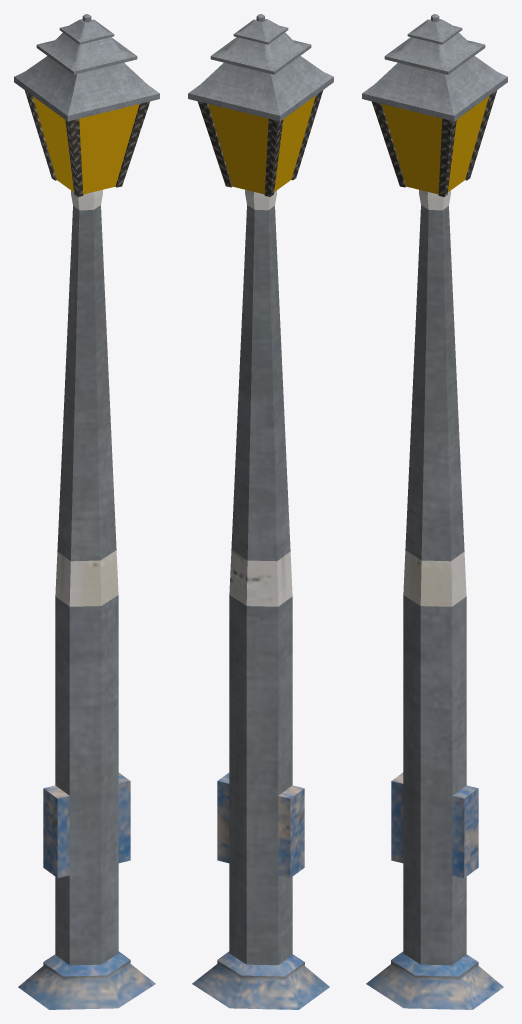
Rendered from Street Light.fbx.
3 views of the same model, side by side, from view 1: azimuth 30°, elevation 25°; view 2: azimuth 150°, elevation 25°; view 3: azimuth 330°, elevation 25° (orthographic).
Parts seen in each view (by area): view 1: Box005; view 2: Box005; view 3: Box005.
Boxes of the visible parts, bbox=[...] form: Box005: bbox=[14, 14, 159, 1009]; Box005: bbox=[188, 14, 333, 1009]; Box005: bbox=[362, 14, 507, 1009].
Size of the model in its own units: 82.29 by 714 by 83.42.
